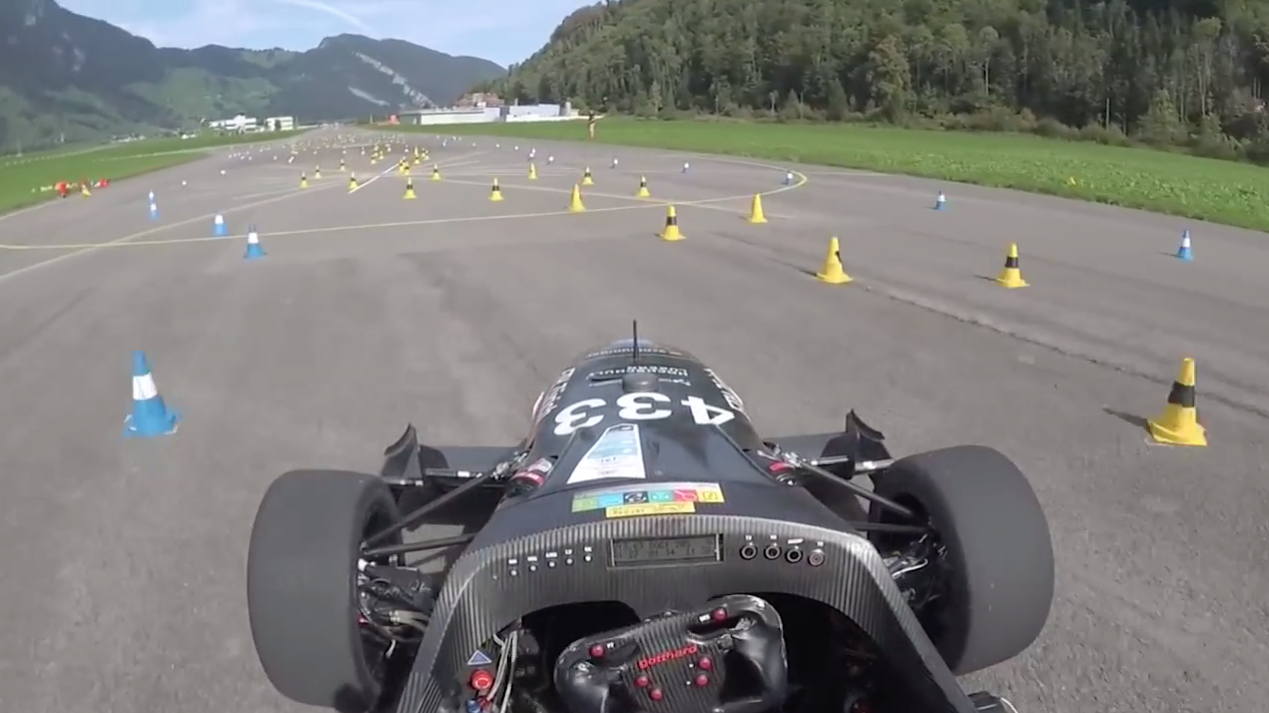lcone: (113, 344, 187, 451), (237, 222, 272, 261)
rcone: (1138, 354, 1215, 452), (811, 233, 855, 288), (991, 241, 1033, 294), (659, 202, 684, 244)
